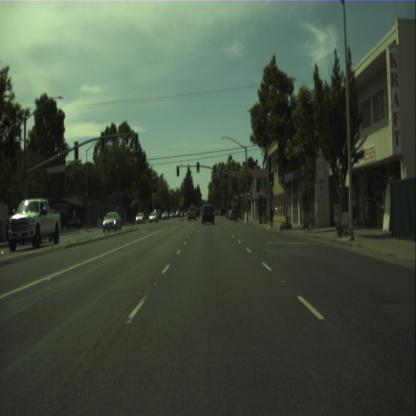Green: (212, 165, 216, 175), (246, 186, 250, 196), (270, 174, 273, 186), (196, 162, 199, 172)
off: (176, 165, 179, 176)
